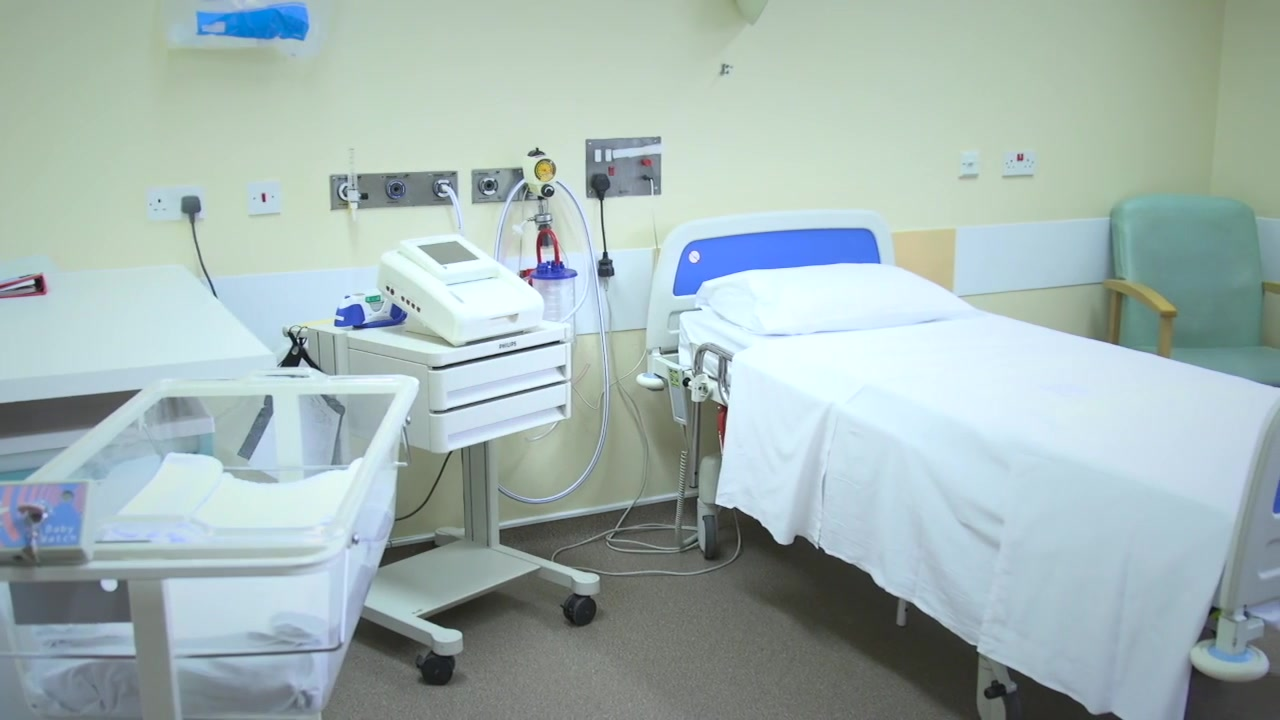bedrail: (690, 341, 739, 402)
chair: (1102, 192, 1280, 410)
countertop: (1, 264, 274, 394)
foot_board: (1218, 399, 1280, 609)
hospital_bed: (639, 208, 1274, 720)
